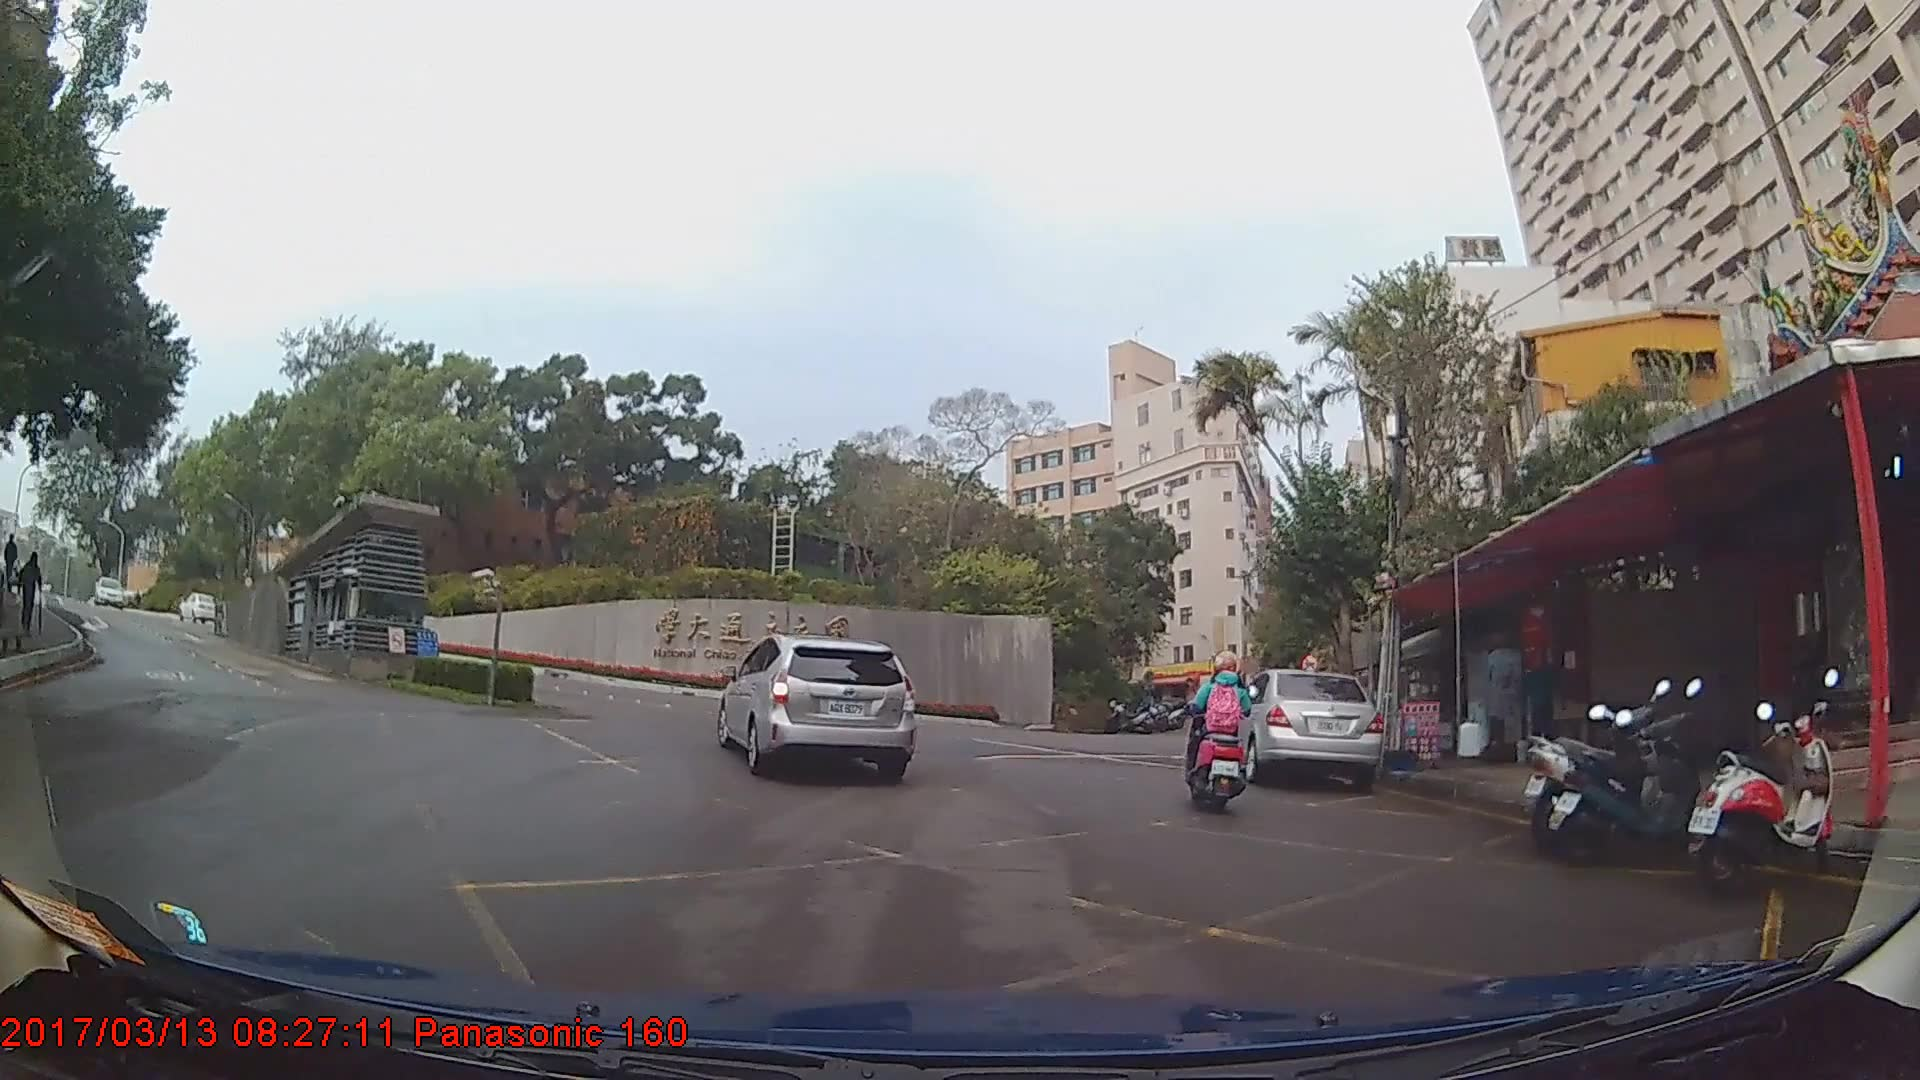pedestrian: (1516, 640, 1570, 768), (13, 554, 44, 635), (3, 534, 23, 593)
rider: (1181, 657, 1257, 824)
vehicle: (713, 631, 912, 779), (1221, 669, 1383, 787), (175, 592, 219, 623), (89, 576, 127, 609)
